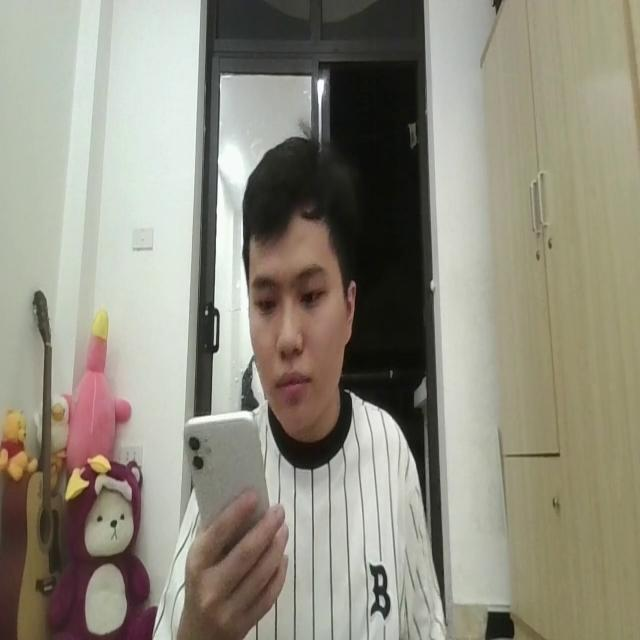phone: (184, 407, 270, 558)
student: (148, 134, 442, 640)
